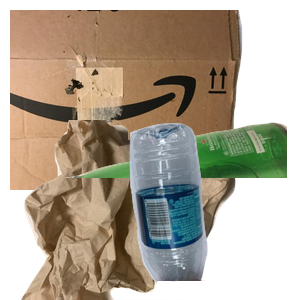cardboard: (10, 10, 245, 190)
glass: (60, 120, 300, 300)
plastic: (127, 120, 300, 300)
trash: (19, 120, 249, 300)
